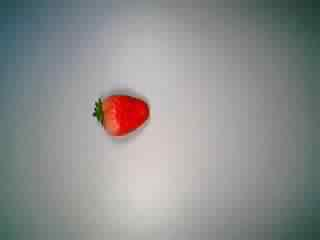strawberry: (88, 82, 150, 146)
